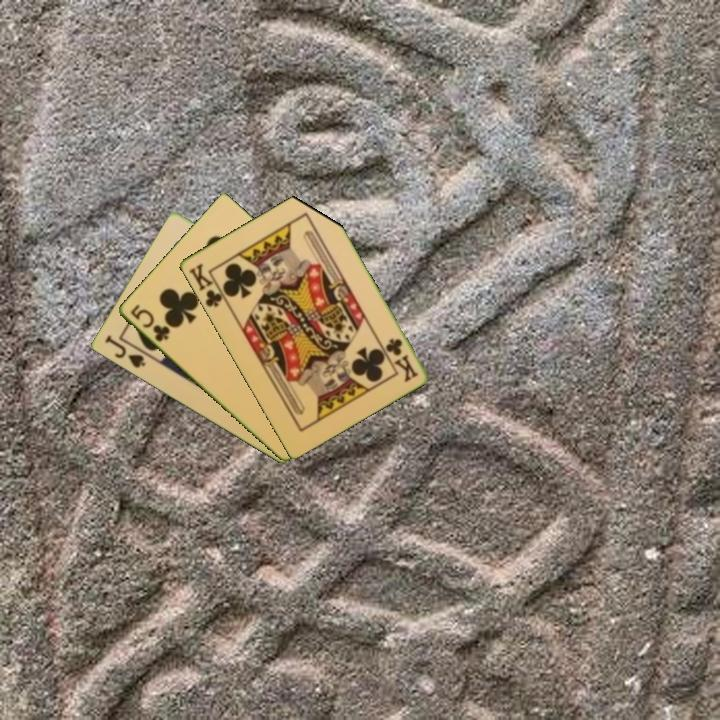5c: (127, 301, 173, 345)
Js: (101, 331, 148, 371)
Kc: (185, 259, 229, 310), (381, 334, 421, 384)
